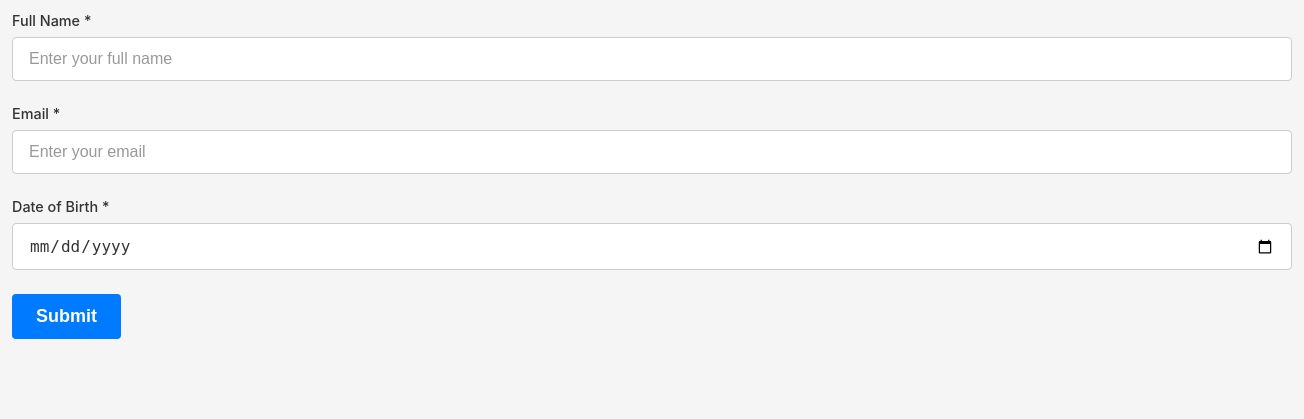
Test case: DynamicFormBuilder Component › clears field errors on input change
Click the button "Submit": (66, 316) [12,294,121,339]
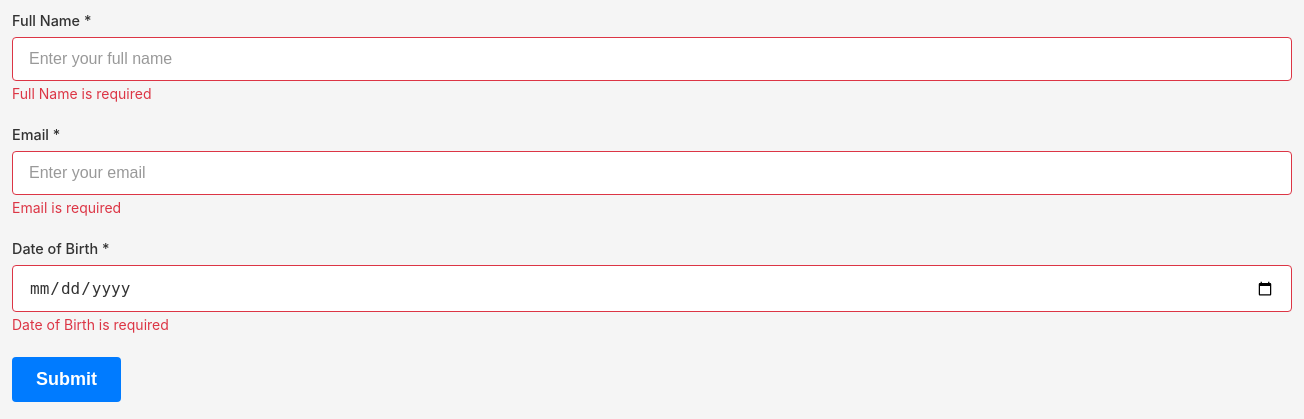
Result: the text "Full Name is required" is shown at [12,85,152,102]
In the field labelled "Full Name *": (652, 59) [12,37,1292,81], type "John Doe"
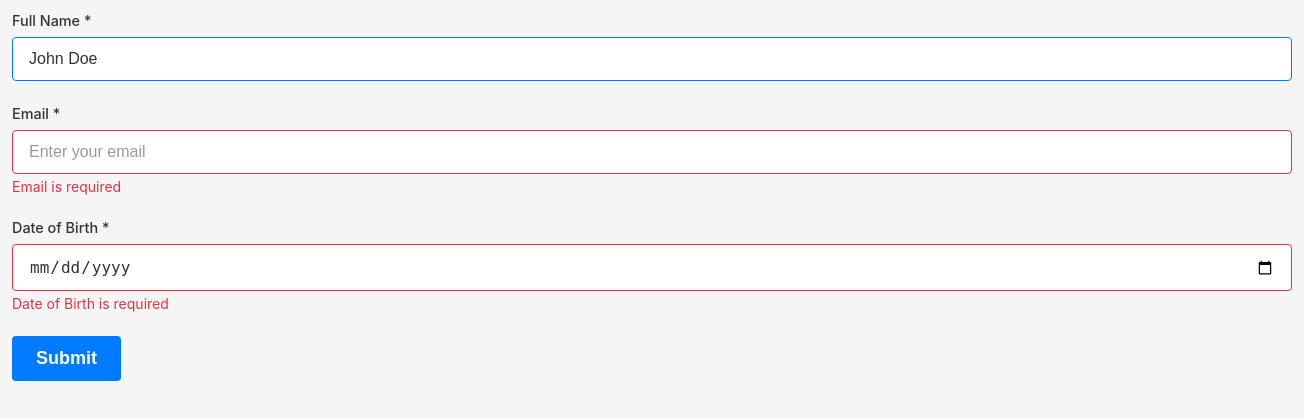
Result: the text "Full Name is required" is gone
